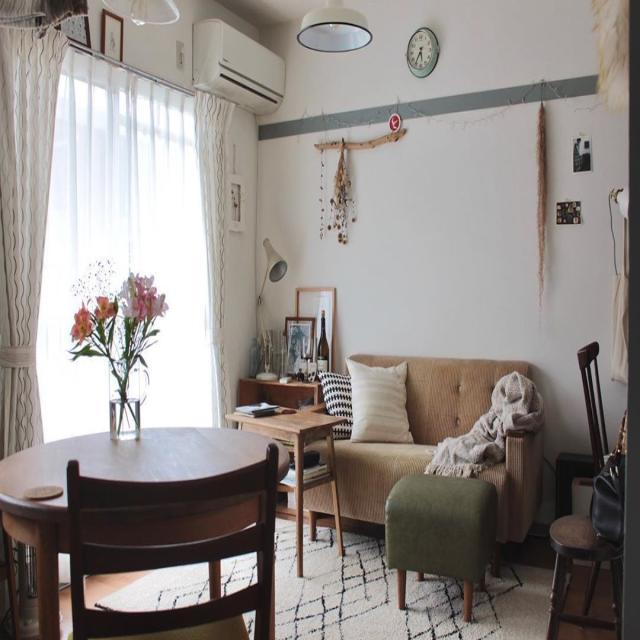modern desk: (1, 418, 294, 638)
modern sofa: (304, 344, 542, 545)
